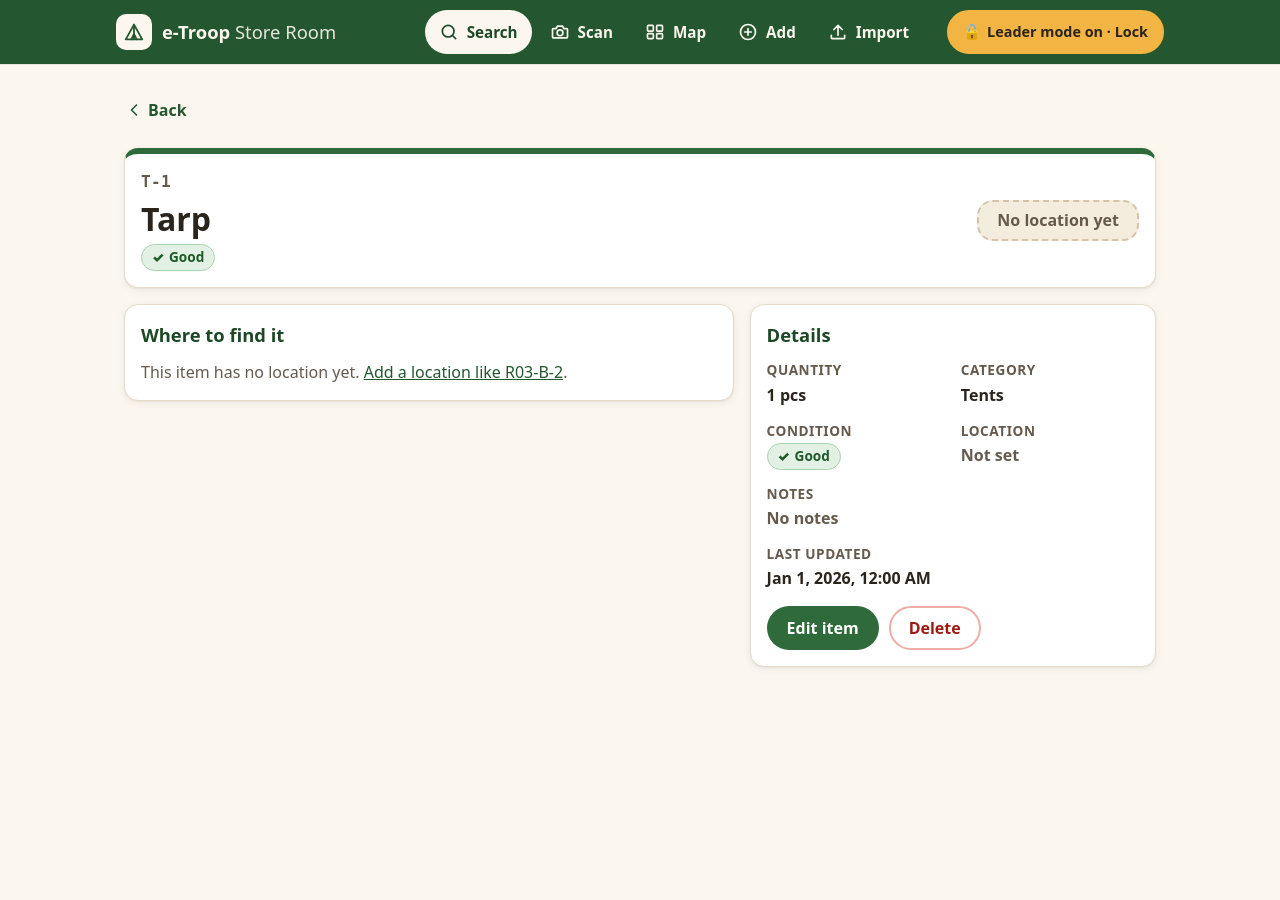
it: Layout & navigation › flash messages (from navigation state) are shown once and can be dismissed
Click the button "Delete" at (935, 628), box [889, 606, 981, 650]
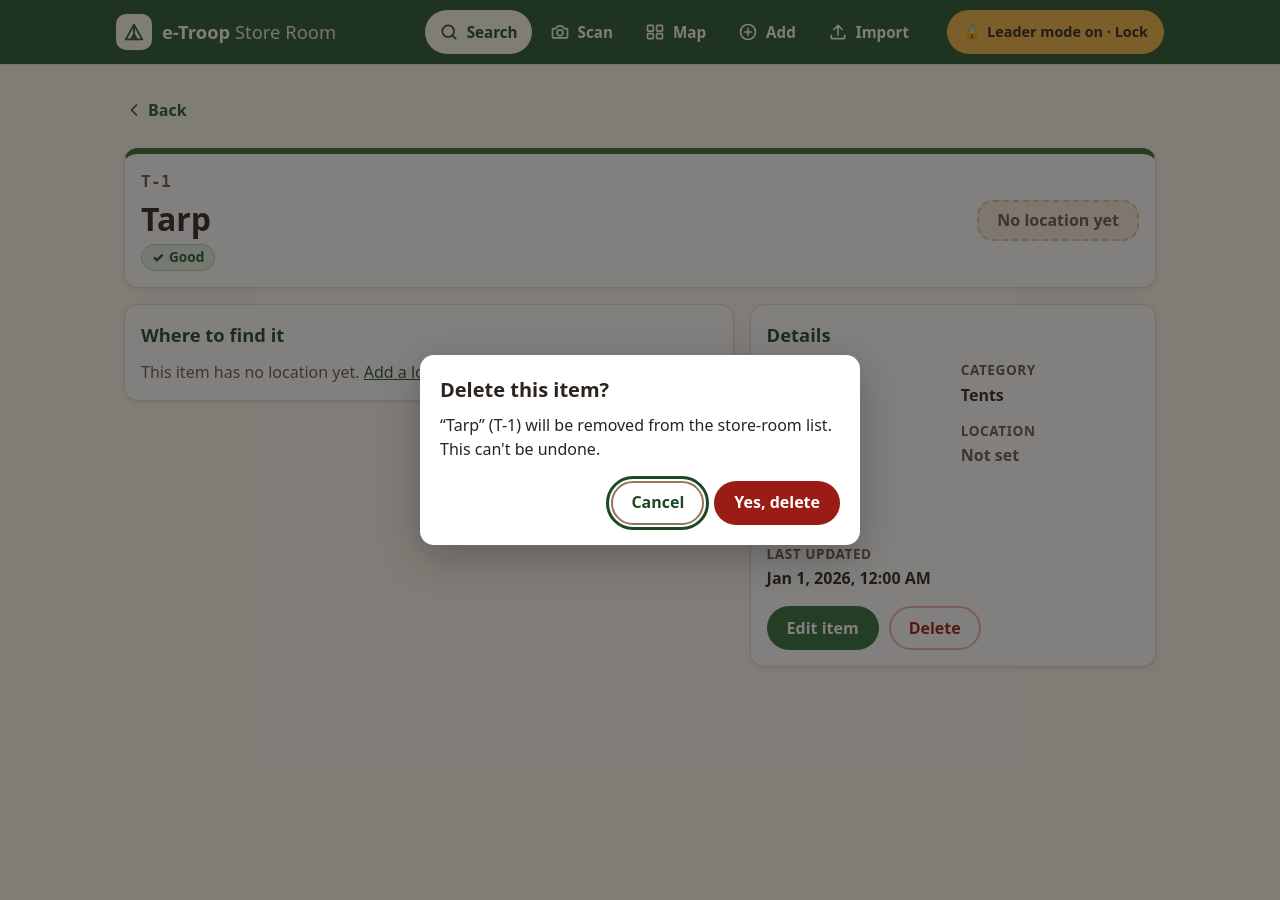
Click the button "Yes, delete" at (777, 503), box [714, 481, 840, 525]
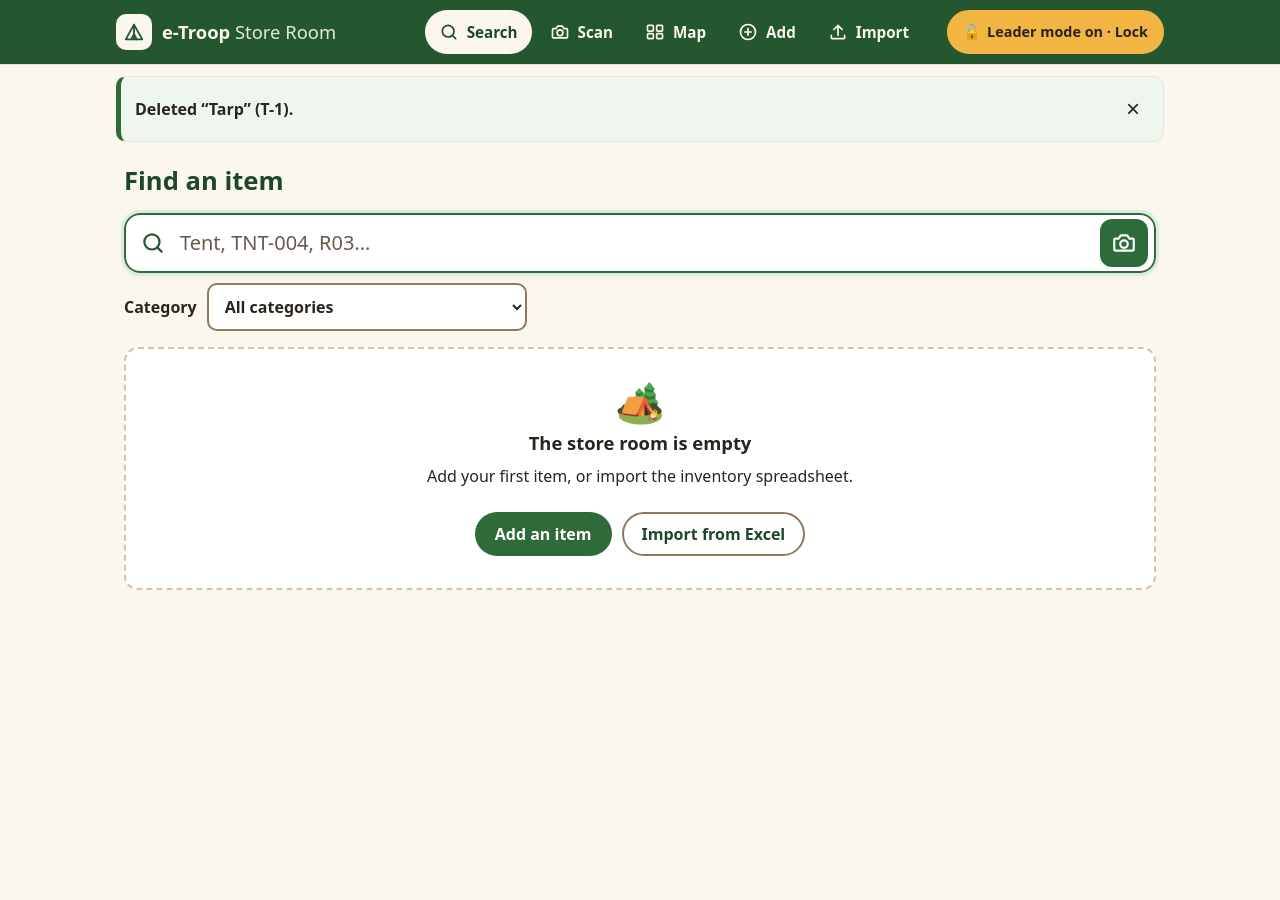
Click the button named "Dismiss message" at (1133, 109), box [1111, 87, 1155, 131]
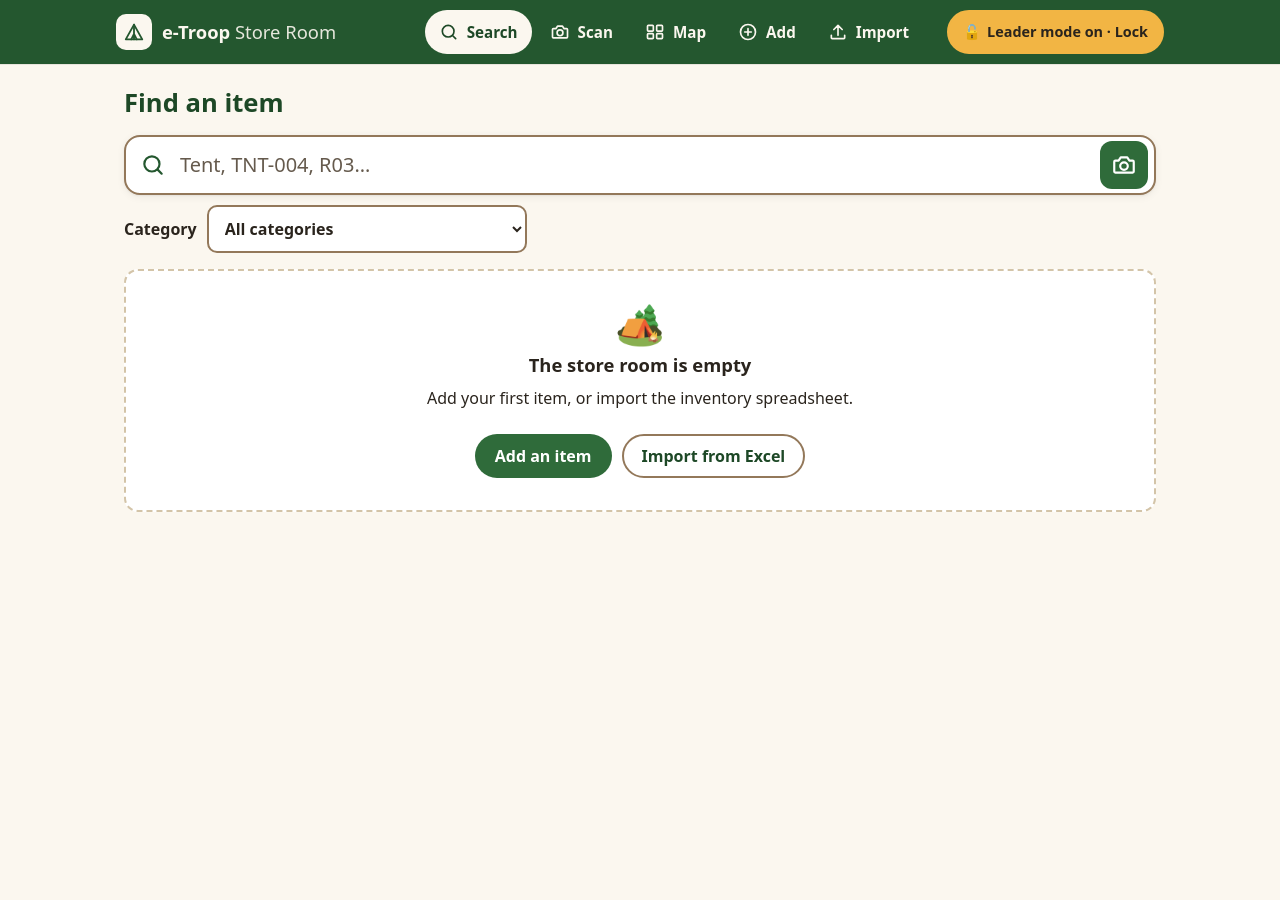
Check: the text "Deleted “Tarp” (T-1)." is gone
